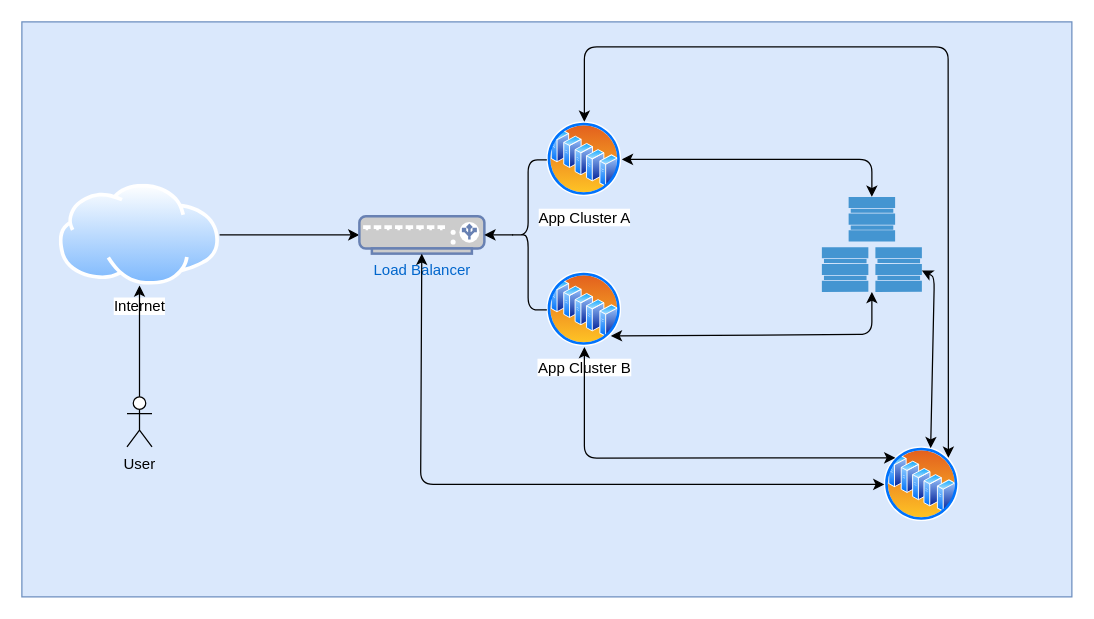
Some shapes in this 1094 by 619 pixel diagram are drawn without their labels. The centre of each missing label's shape, as x and y in pixels:
"Data Base Cluster" goes at point (871, 243).
"Monitoring Cluster" goes at point (921, 483).
